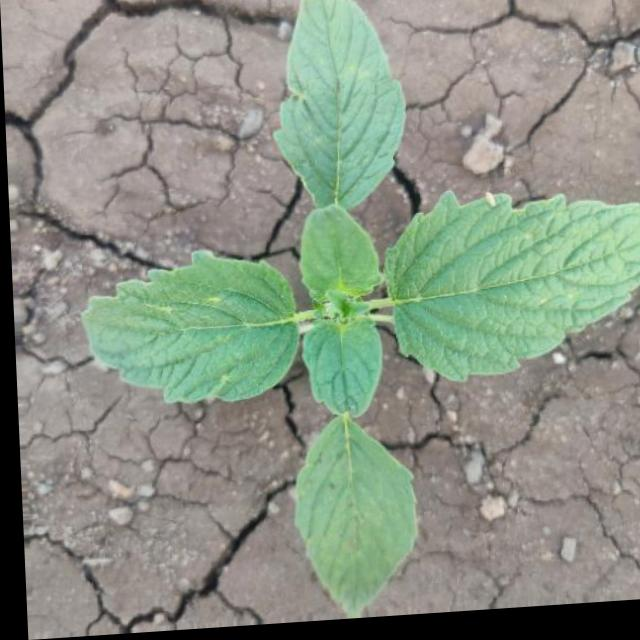crop: (60, 0, 640, 624)
